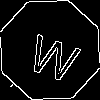W: (25, 25, 84, 84)
